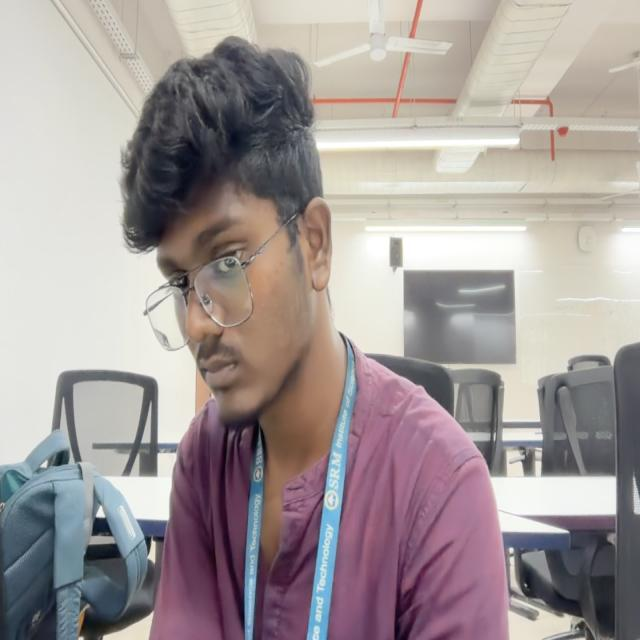ravindra: (118, 36, 334, 432)
